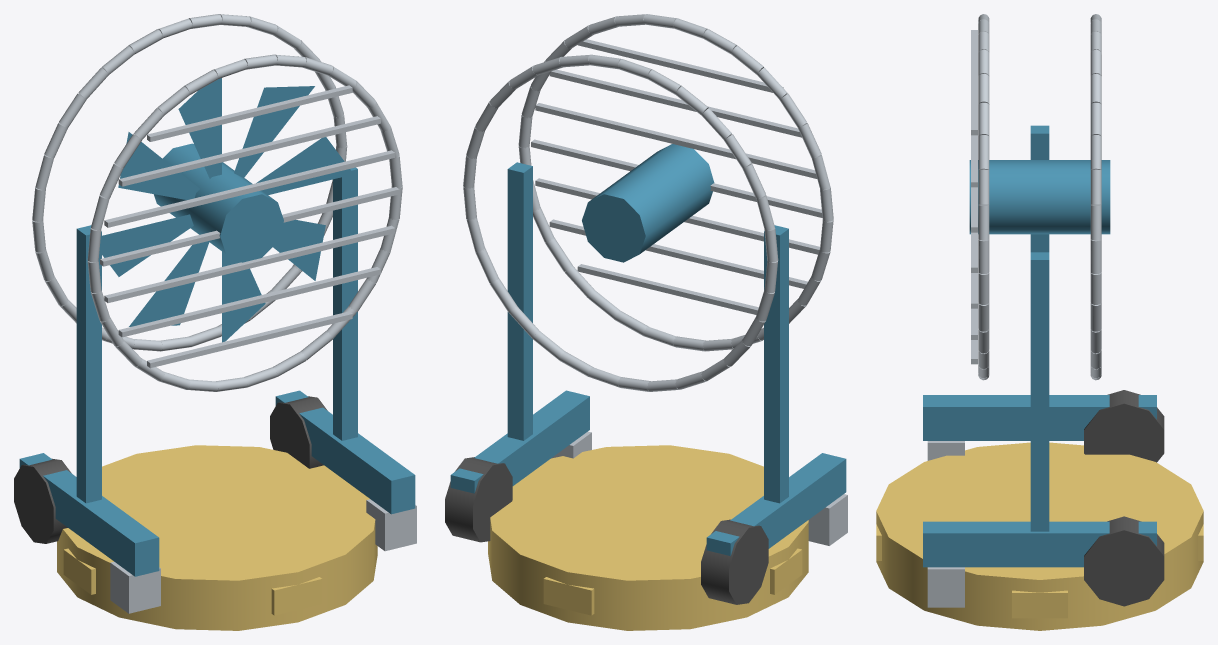
3 renders of one model, left to right at view 1: azimuth 30°, elevation 25°; view 2: azimuth 150°, elevation 25°; view 3: azimuth 270°, elevation 25°, orthographic.
Parts seen in each view (by area): view 1: visualRotor, hub, post0, rail1, rail0, post1, wheel0, guard4, guard2, blade4, guard5, wheel1 (+13 smaller); view 2: visualRotor, hub, post1, post0, rail0, rail1, wheel0, wheel1, guard4, guard5, guard3, guard6 (+4 smaller); view 3: visualRotor, hub, rail1, rail0, post1, wheel1, wheel0, foot1, post0, guard6, foot0.
Boxes of the visible parts, x1,y1,x2,y2 form: visualRotor: [57, 445, 377, 630]; hub: [153, 143, 283, 262]; post0: [76, 225, 101, 503]; rail1: [275, 390, 415, 514]; rail0: [19, 453, 159, 576]; post1: [333, 167, 357, 440]; wheel0: [14, 458, 71, 543]; guard4: [104, 150, 394, 227]; guard2: [104, 225, 394, 302]; blade4: [99, 214, 193, 276]; guard5: [118, 116, 380, 186]; wheel1: [270, 396, 327, 468]; visualRotor: [488, 445, 808, 630]; hub: [582, 144, 714, 262]; post1: [507, 162, 532, 440]; post0: [764, 225, 788, 503]; rail0: [706, 453, 846, 555]; rail1: [450, 390, 589, 493]; wheel0: [701, 519, 768, 604]; wheel1: [445, 457, 512, 542]; guard4: [535, 103, 817, 178]; guard5: [549, 69, 801, 137]; guard3: [531, 139, 822, 217]; guard6: [578, 39, 783, 92]; visualRotor: [876, 442, 1203, 630]; hub: [969, 160, 1110, 234]; rail1: [923, 521, 1156, 567]; rail0: [923, 395, 1156, 440]; post1: [1030, 252, 1049, 531]; wheel1: [1084, 516, 1164, 606]; wheel0: [1084, 390, 1164, 462]; foot1: [927, 567, 964, 607]; post0: [1030, 125, 1049, 252]; guard6: [971, 30, 977, 135]; foot0: [927, 441, 964, 460].
Size of the model in its own units: 0.7838 by 1.25 by 0.7.
